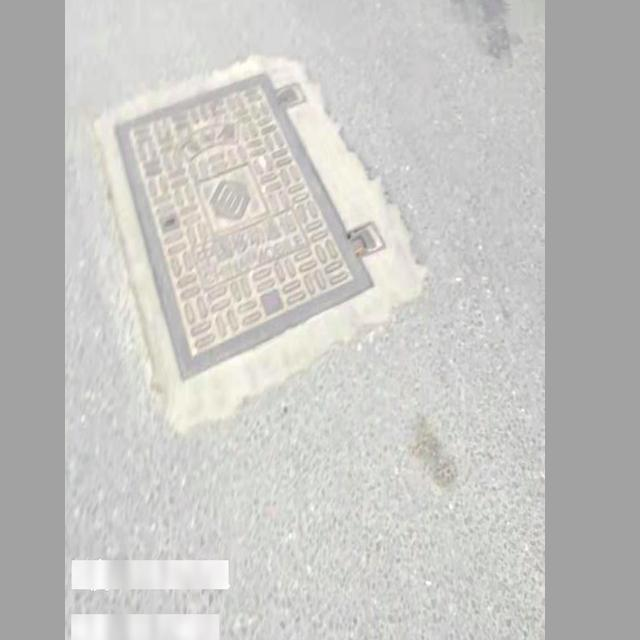good: (109, 58, 409, 369)
